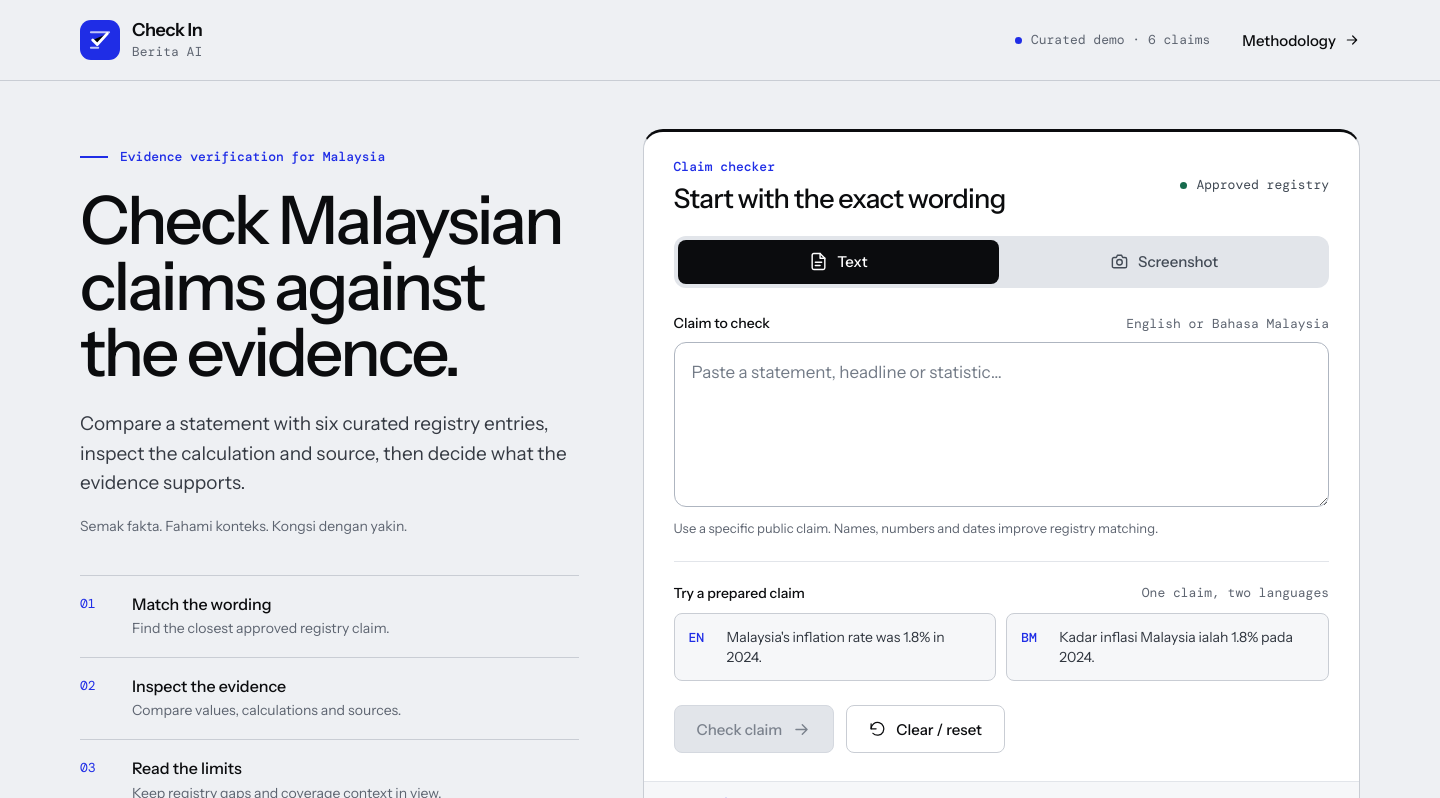
Check In Berita AI primary flow › has accessible input and renders evidence, warning and coverage profile
In the text box labelled "Claim to check": (1001, 424) x1=674 y1=342 x2=1329 y2=507, type "Malaysia's inflation rate was 1.8% in 2024."
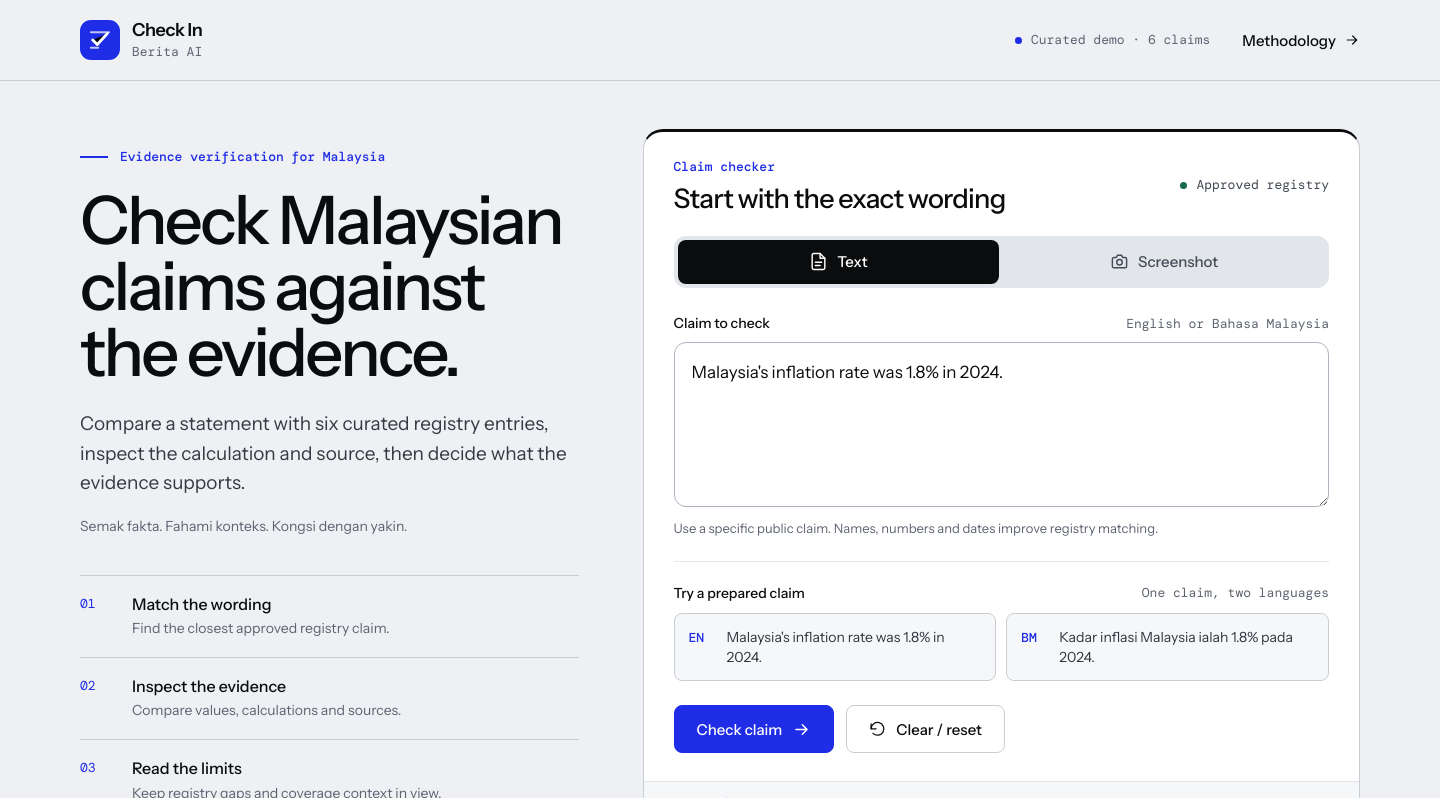
Click the button "Check claim": (754, 729) x1=674 y1=705 x2=834 y2=753
(page scrolled)
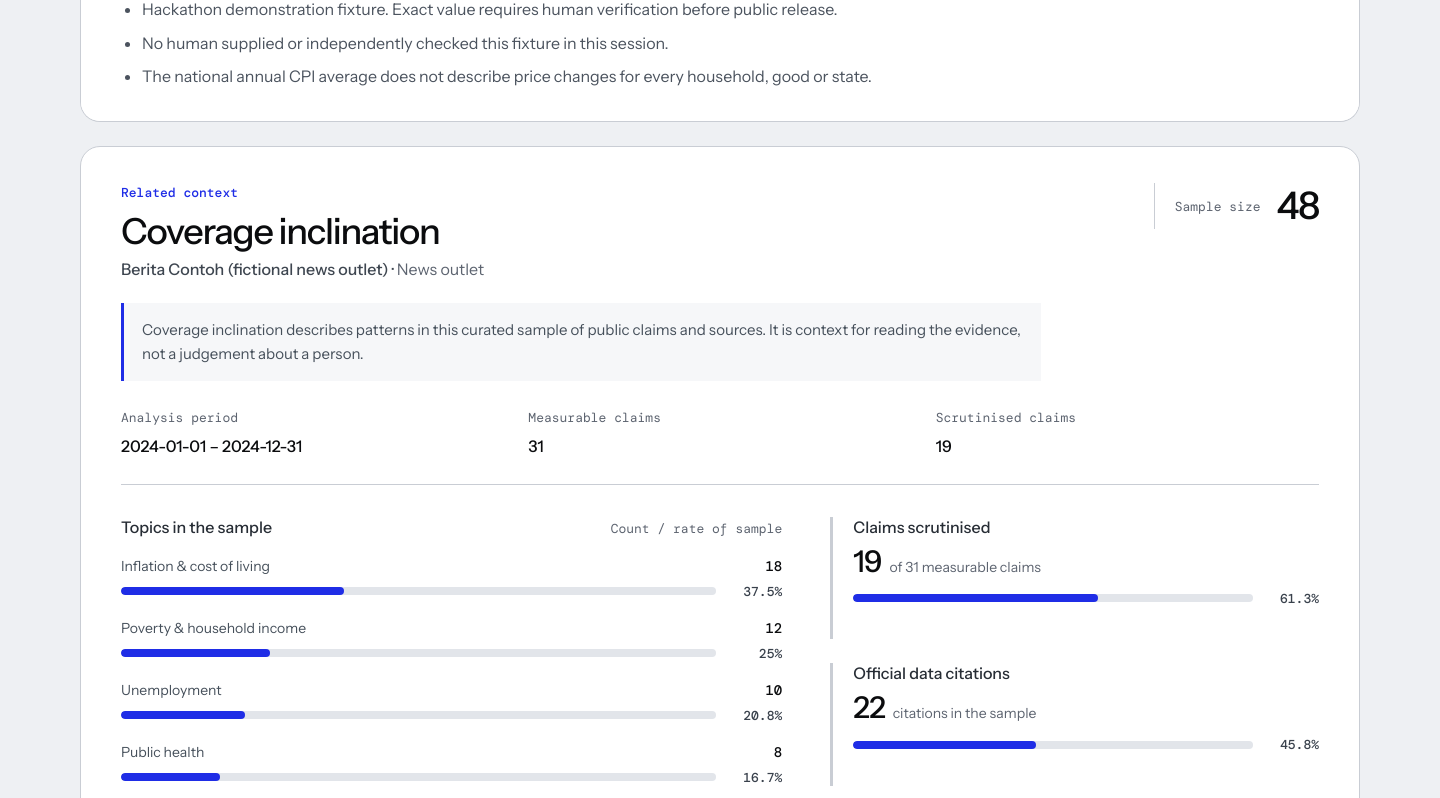
Check: the text "Sample size" is shown, box x1=1175 y1=198 x2=1260 y2=215
Check: the text "Analysis period" is shown, box x1=121 y1=409 x2=238 y2=426
